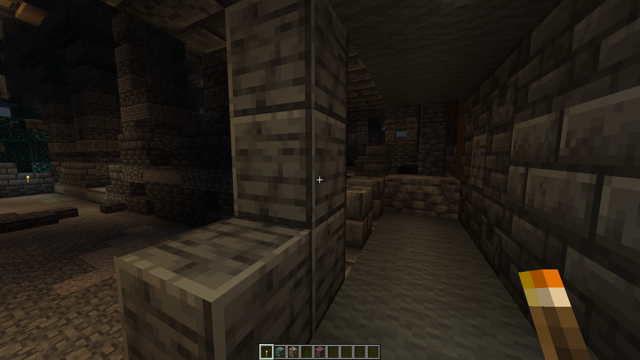diamond: (40, 190, 74, 207)
